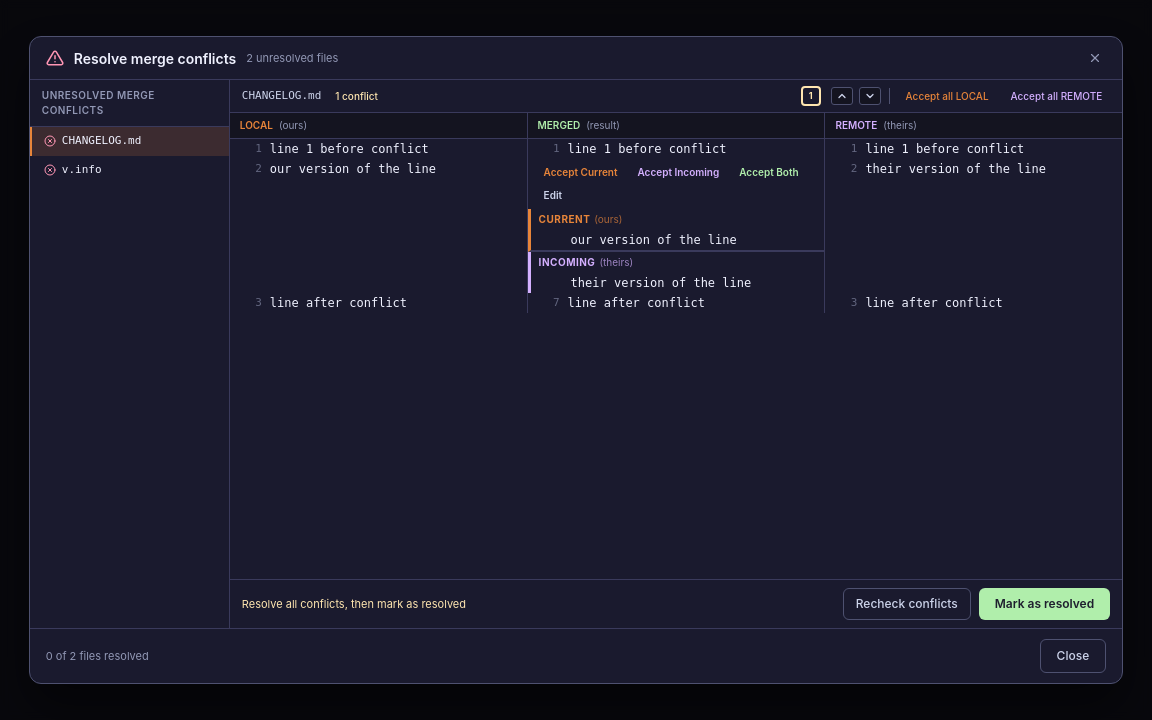
Test: MergeConflictDialog › resolves conflict by clicking Accept Incoming
The image size is (1152, 720).
Click the button "Accept Incoming".
click(678, 172)  # box 630,163 -> 727,182
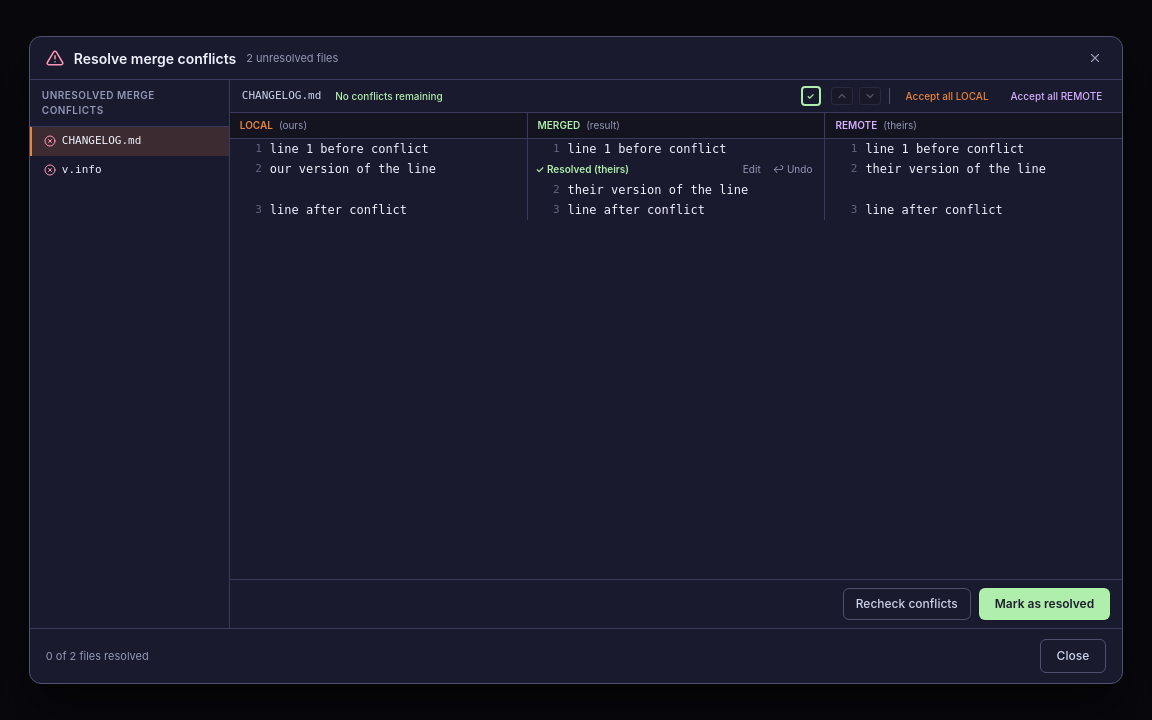
Expected: the text "No conflicts remaining" is shown, 329,88 -> 449,104
